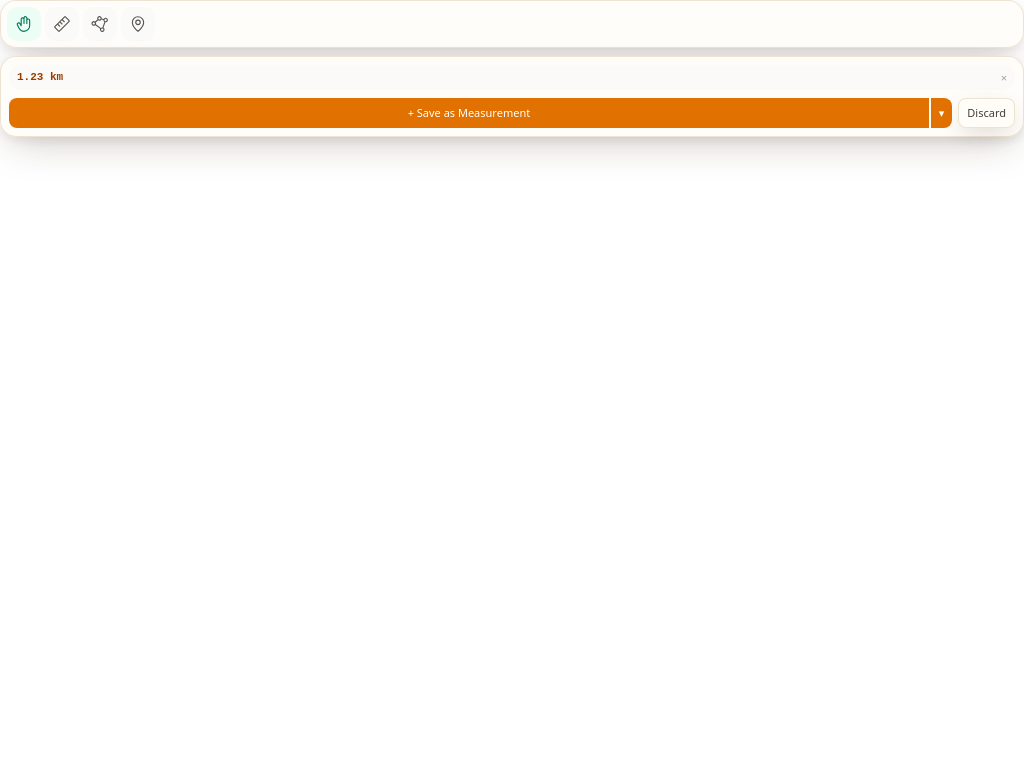
Test: MeasureToolbar › opens chooser popover when dropdown arrow is clicked
This screenshot has width=1024, height=768.
Click the button named "more save options": coordinates (942, 113) [931,98,952,128]
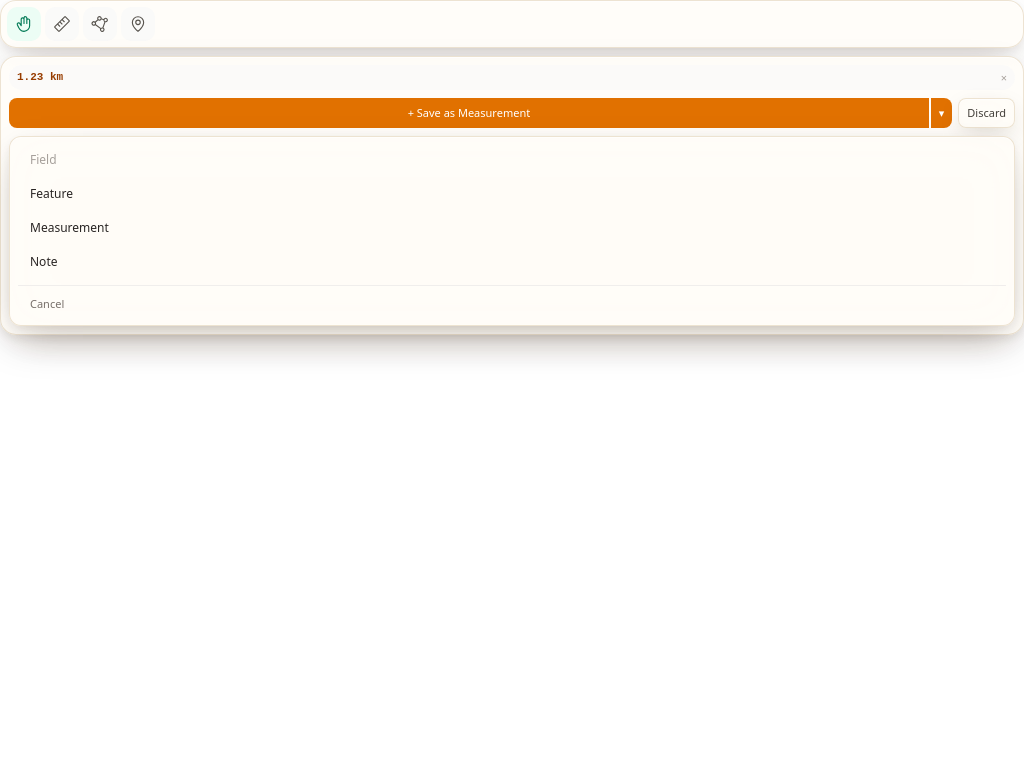
Now the button "Measurement" is shown, box [18,213,1006,243]
